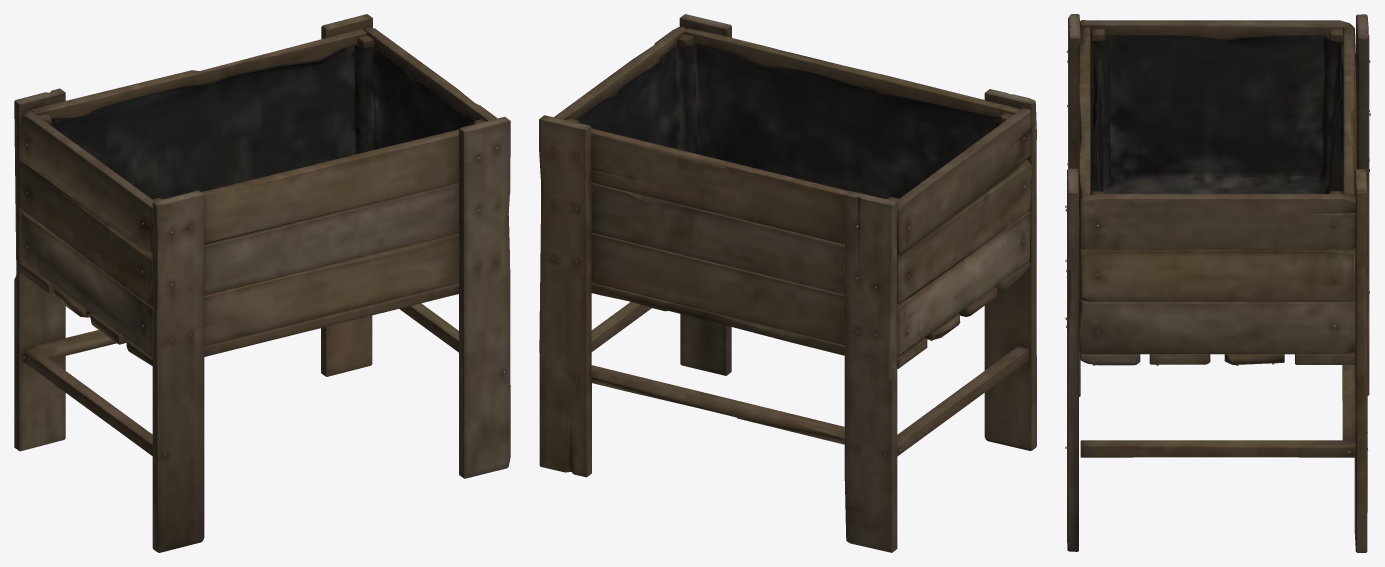
The model's file is jardiniere_haute_bois_lod0.glb.
3 renders of one model, left to right at view 1: azimuth 30°, elevation 25°; view 2: azimuth 150°, elevation 25°; view 3: azimuth 270°, elevation 25°, orthographic. The views are drawn at different scales.
Parts seen in each view (by area): view 1: planter_box_03; view 2: planter_box_03; view 3: planter_box_03.
Boxes of the visible parts, left/top/right/bottom form: planter_box_03: left=14, top=14, right=510, bottom=552; planter_box_03: left=539, top=14, right=1036, bottom=552; planter_box_03: left=1065, top=14, right=1370, bottom=552.
Bounding box in the file's own units: 0.9143 × 0.8551 × 0.6555.
Materials: 1 (1 with a texture image).
